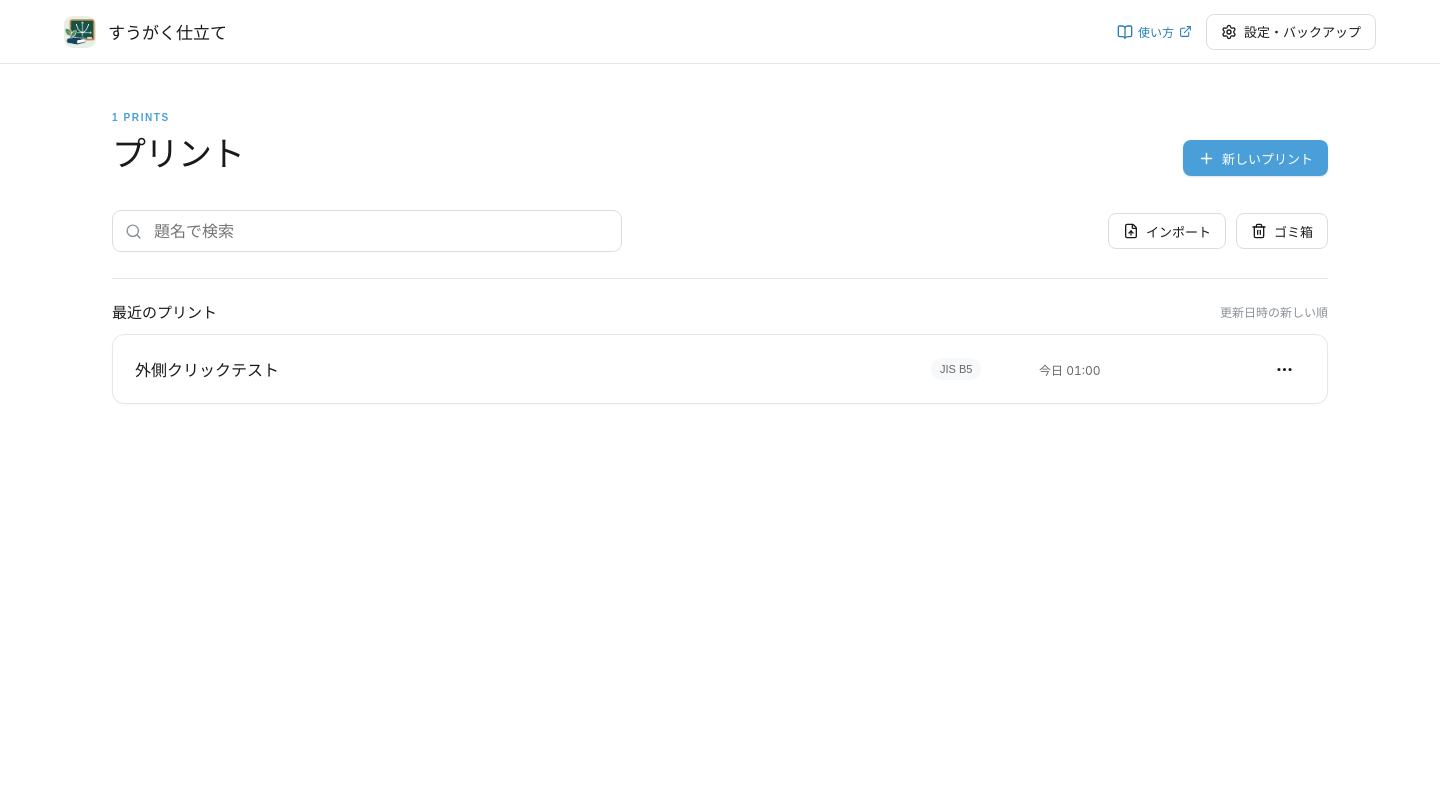
Test: WorksheetListScreen › プリントの操作メニューを外側の操作で閉じる
Click the button named "外側クリックテストのメニュー" at x=1284, y=369, box [1267,352,1301,386]
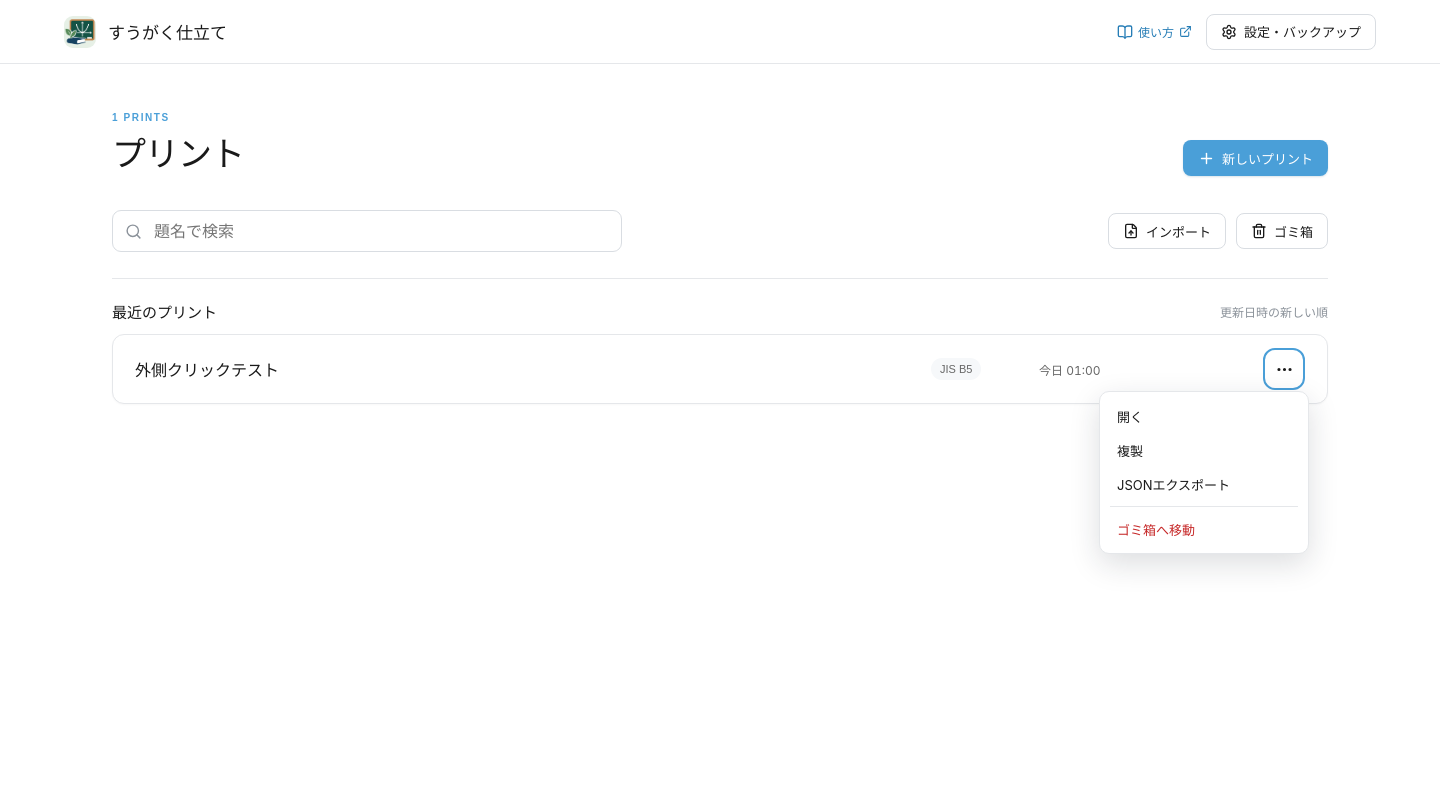
Now the button "JSONエクスポート" is shown, box [1107,467,1301,501]
Click the heading "プリント" at x=178, y=152, box [112,127,244,176]
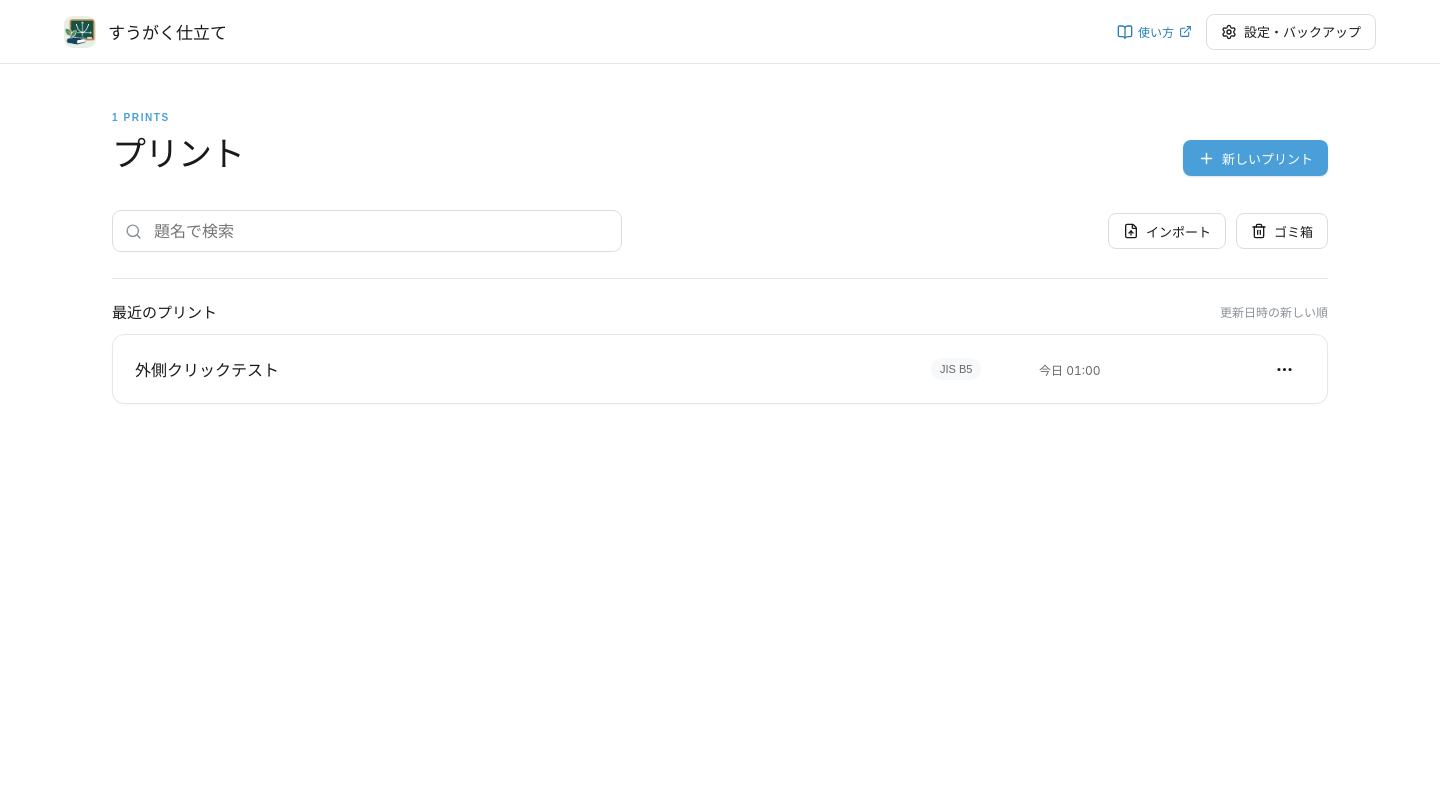
Now the button "JSONエクスポート" is gone
